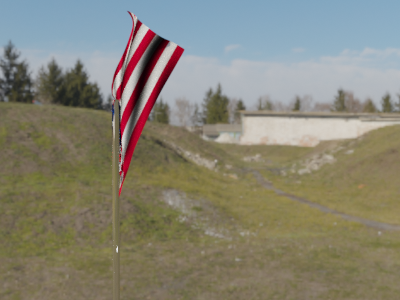Liberia flag: (116, 13, 186, 191)
